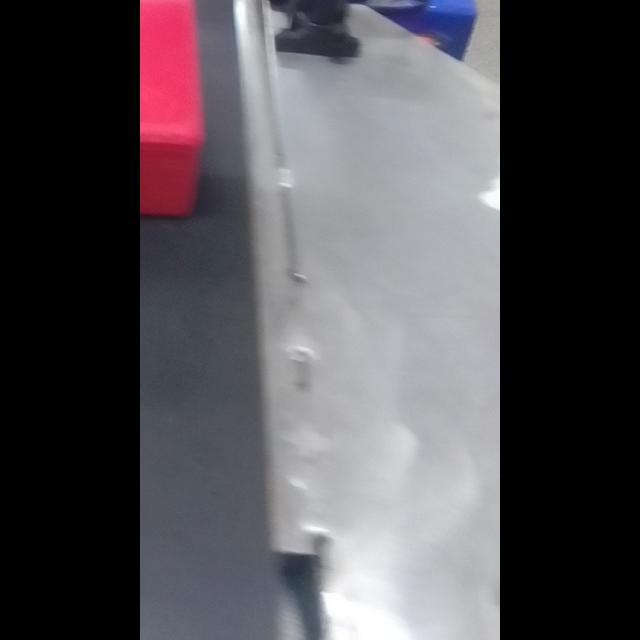redBox: (140, 1, 236, 248)
